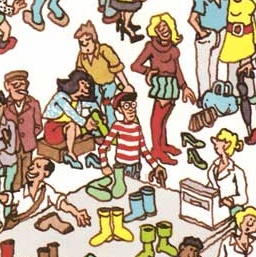waldo: (99, 92, 157, 165), (107, 92, 143, 123)
